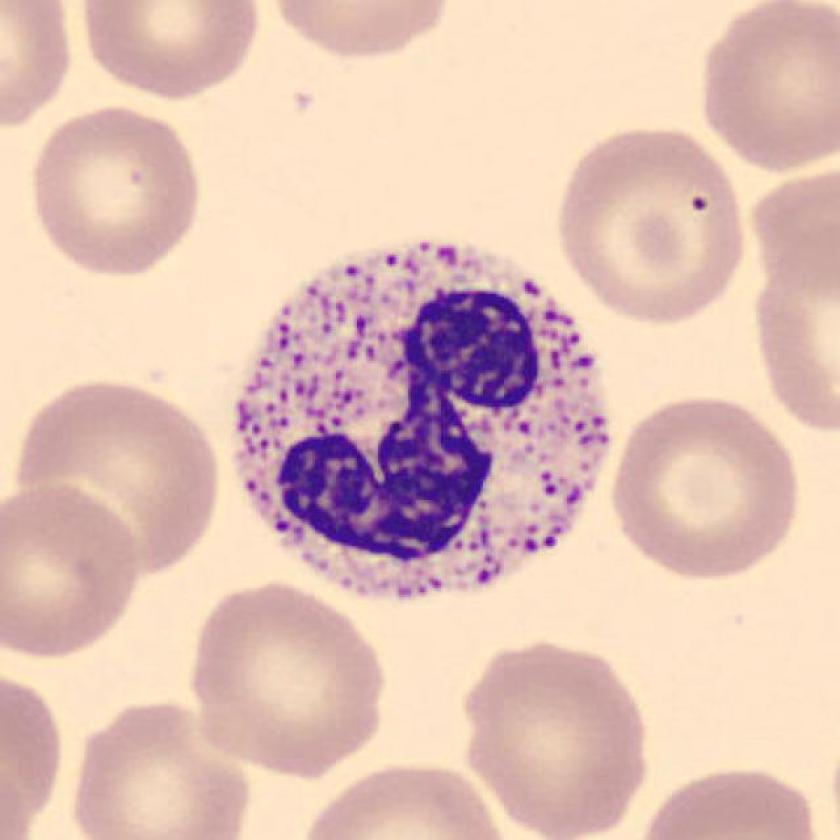neutrophil: (239, 243, 609, 596)
